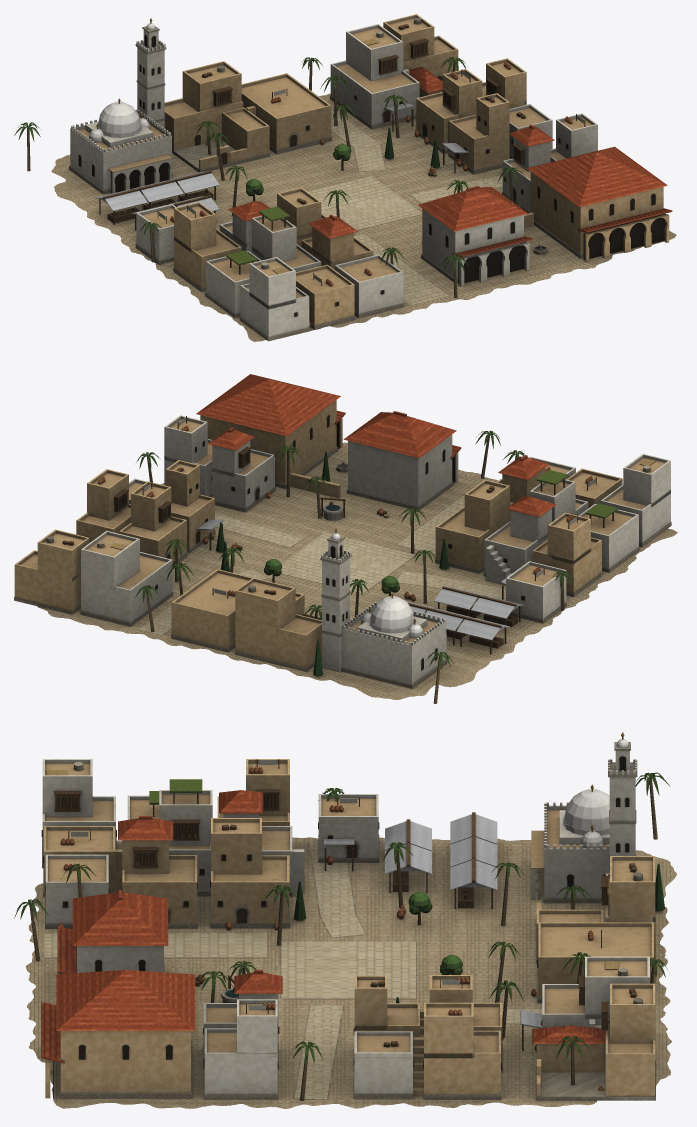
Rendered from kingdoms-town-medium-b.glb.
3 renders of one model, top to bottom at view 1: azimuth 30°, elevation 25°; view 2: azimuth 150°, elevation 25°; view 3: azimuth 270°, elevation 25°, orthographic. The views are drawn at different scales.
Parts seen in each view (by area): view 1: LOD0; view 2: LOD0; view 3: LOD0.
Part boxes in pixels (<box>): LOD0: <box>14,14,676,341</box>; LOD0: <box>14,374,677,703</box>; LOD0: <box>14,732,676,1108</box>.
Size of what is drawn, in the model's own units: 6.11 by 1.82 by 6.15.
3 materials, 3 textured.
